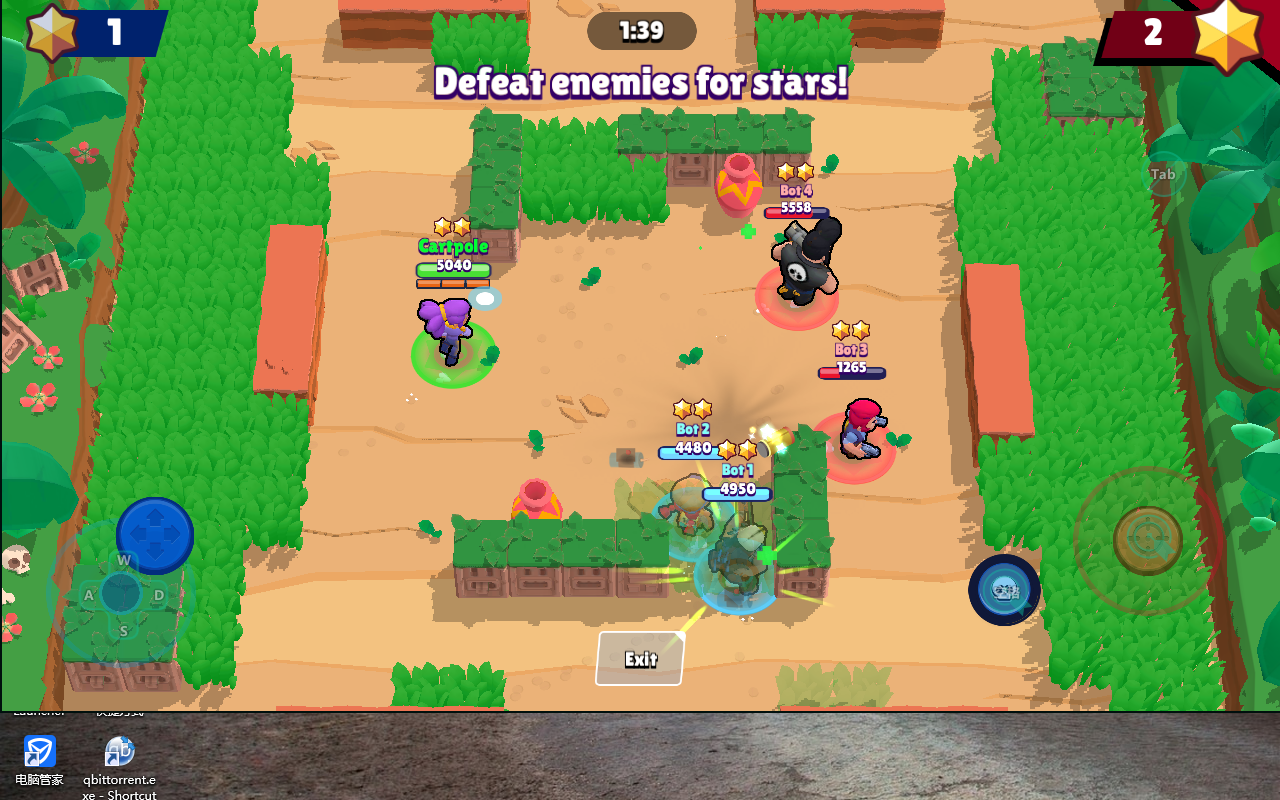current_player: (413, 322, 498, 387)
